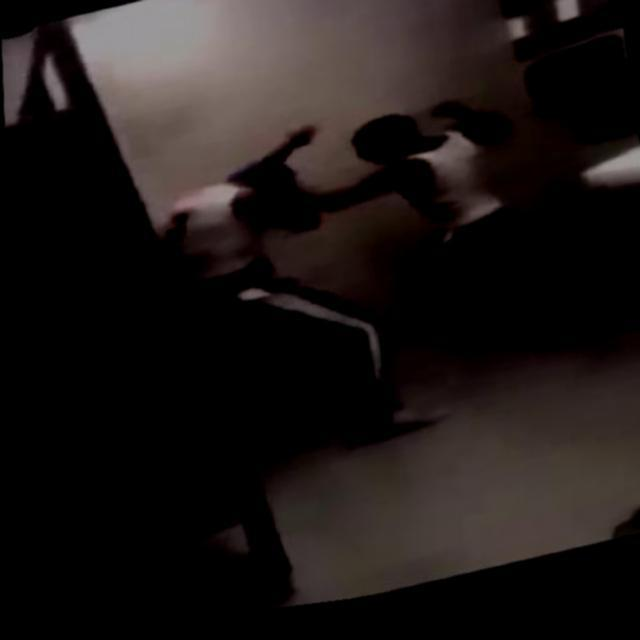fight: (161, 70, 619, 472)
